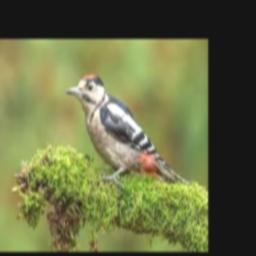Woodpecker: (66, 74, 189, 185)
